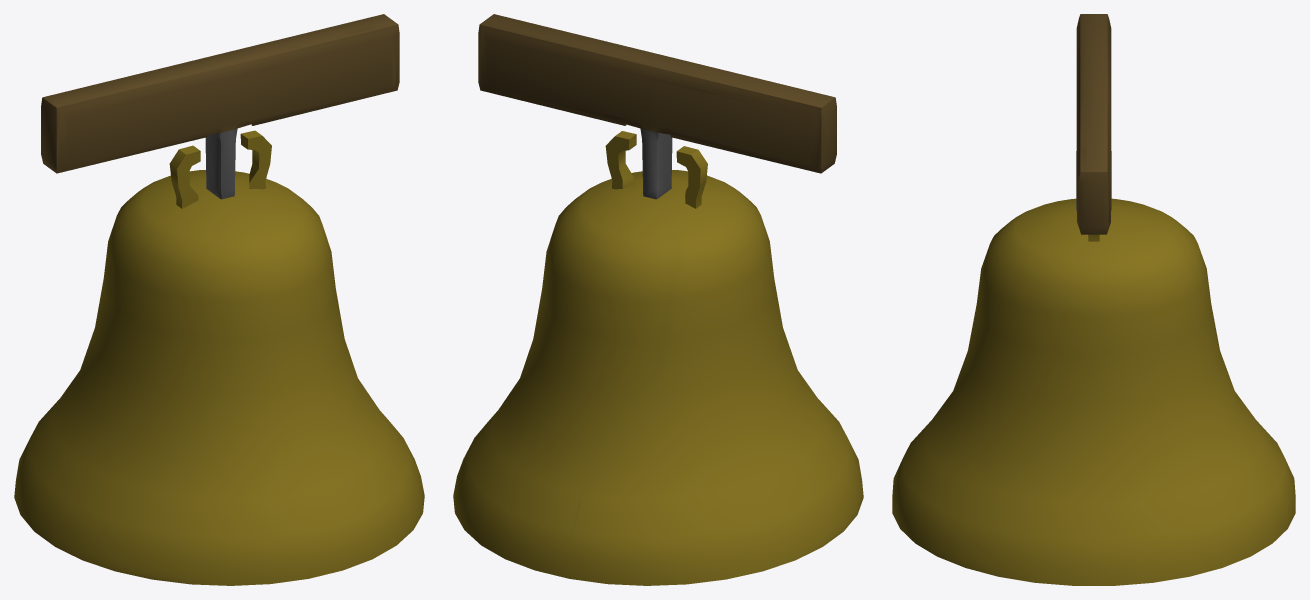
The model's file is Stephensfuckingbell.fbx.
3 renders of one model, left to right at view 1: azimuth 30°, elevation 25°; view 2: azimuth 150°, elevation 25°; view 3: azimuth 270°, elevation 25°, orthographic. The views are drawn at different scales.
Visible parts, largest first — view 1: Bell; view 2: Bell; view 3: Bell.
Boxes of the visible parts, bbox=[...] form: Bell: bbox=[14, 14, 424, 585]; Bell: bbox=[453, 14, 863, 585]; Bell: bbox=[892, 14, 1295, 585].
Bounding box in the file's own units: 3.11 × 3.28 × 3.76.
